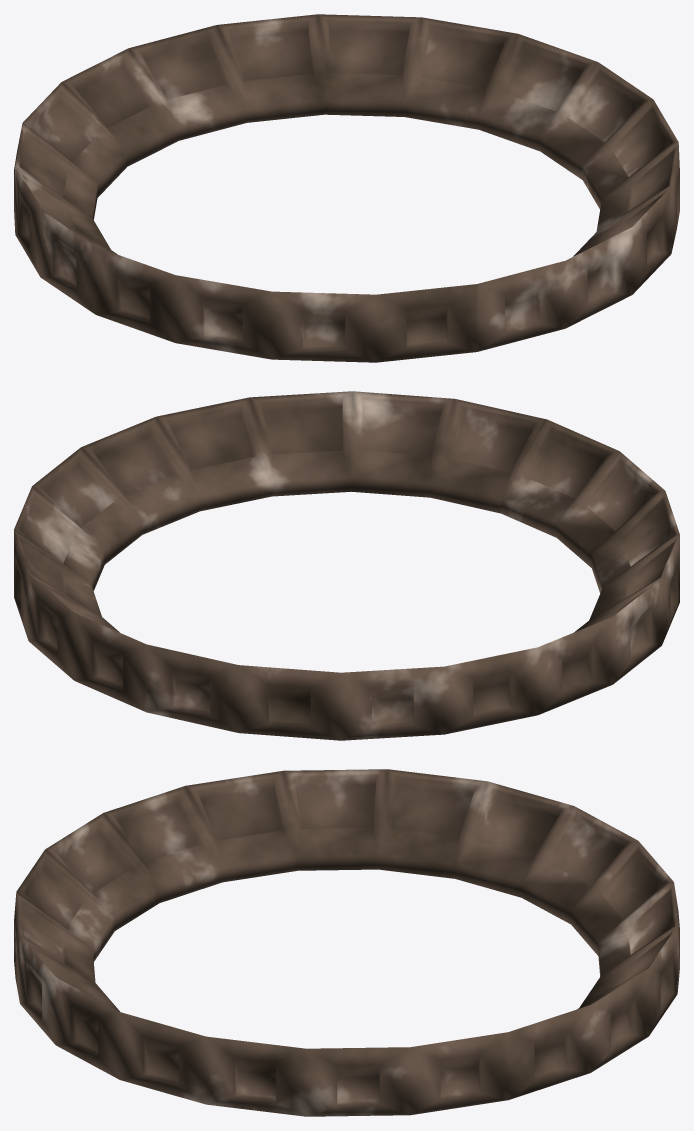
File: ColliseumSeats.obj
The picture shows the model from 3 angles, top to bottom: view 1: azimuth 30°, elevation 25°; view 2: azimuth 150°, elevation 25°; view 3: azimuth 270°, elevation 25°; orthographic projection.
Parts seen in each view (by area): view 1: Cube.003_Cube.006; view 2: Cube.003_Cube.006; view 3: Cube.003_Cube.006.
Part boxes in pixels (<box>): Cube.003_Cube.006: <box>14,14,679,362</box>; Cube.003_Cube.006: <box>14,391,679,740</box>; Cube.003_Cube.006: <box>14,769,679,1116</box>.
Size of the model in its own units: 74.08 by 8.35 by 74.08.
1 material, 1 textured.
